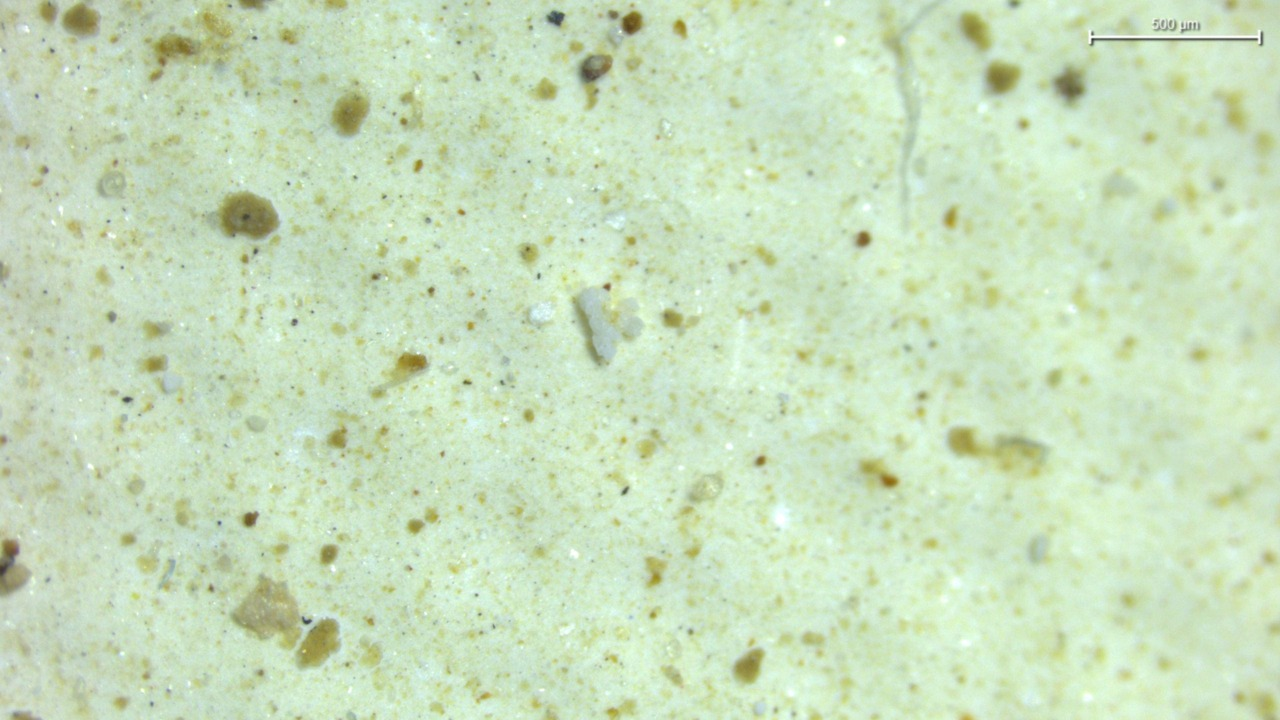microplastic_fragment: (232, 575, 299, 639), (578, 288, 620, 362), (615, 298, 643, 336)
